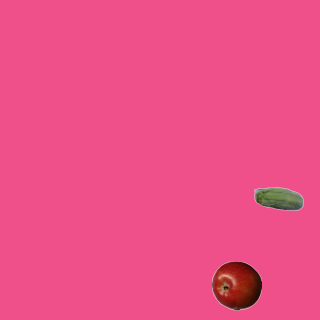Apple Braeburn: (211, 260, 261, 310)
Corn Husk: (253, 175, 303, 225)
